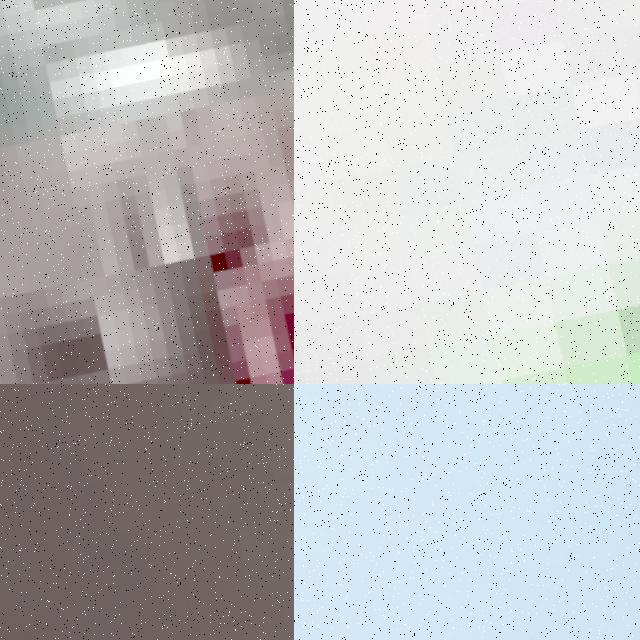drone: (294, 0, 640, 384), (0, 0, 294, 384), (294, 384, 640, 640), (0, 384, 294, 640)
